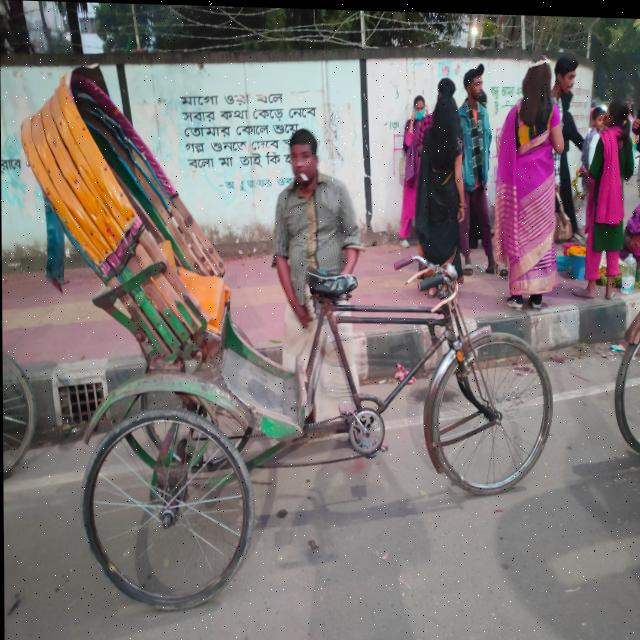rikshaw: (28, 70, 561, 630)
